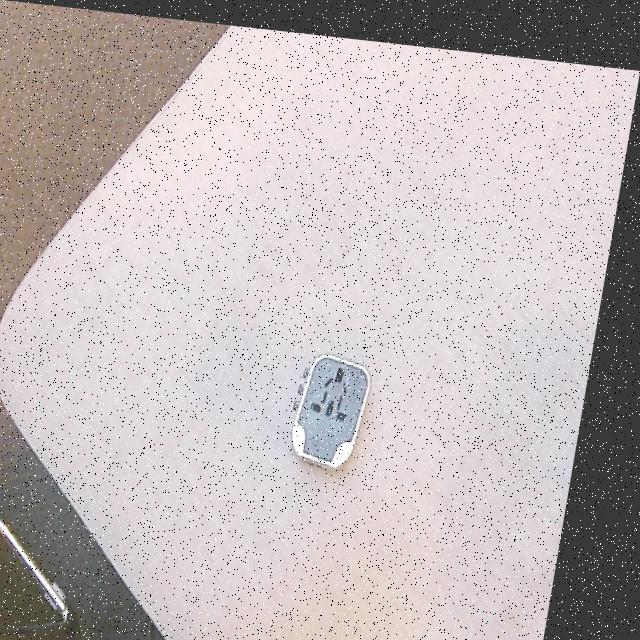adapter: (299, 341, 386, 461)
